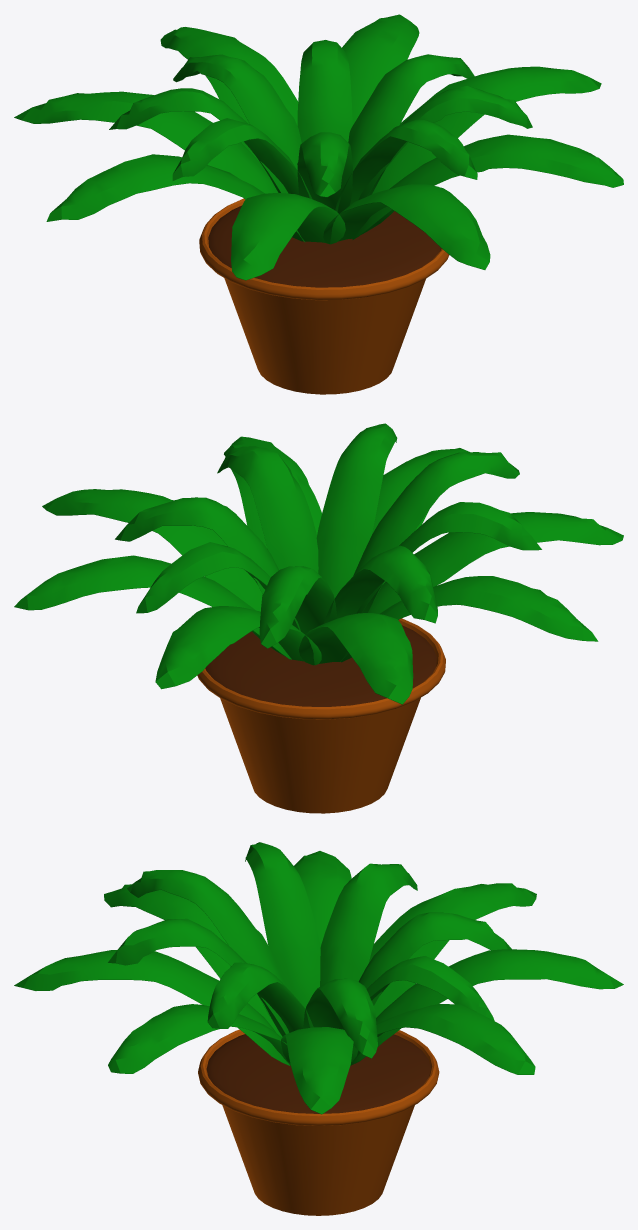
The model's file is planta.fbx.
The picture shows the model from 3 angles, top to bottom: view 1: azimuth 30°, elevation 25°; view 2: azimuth 150°, elevation 25°; view 3: azimuth 270°, elevation 25°; orthographic projection. The views are drawn at different scales.
Visible parts, largest first — view 1: Flower_pot; view 2: Flower_pot; view 3: Flower_pot.
Boxes of the visible parts, x1,y1,x2,y2 form: Flower_pot: [14, 14, 623, 394]; Flower_pot: [14, 423, 623, 813]; Flower_pot: [14, 842, 623, 1215].
Size of the model in its own units: 331 by 172 by 329.
